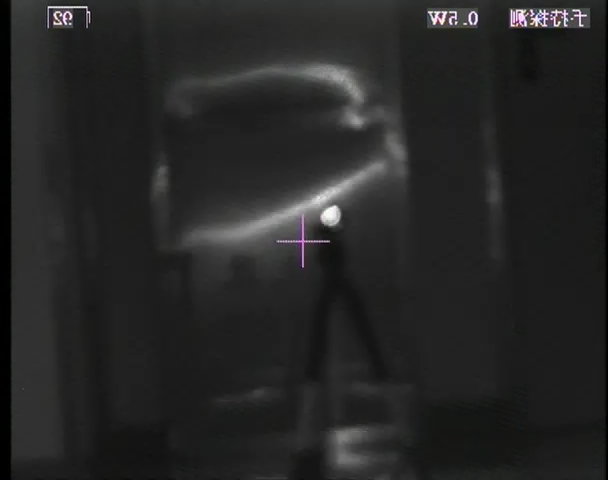my: (319, 201, 343, 228)
